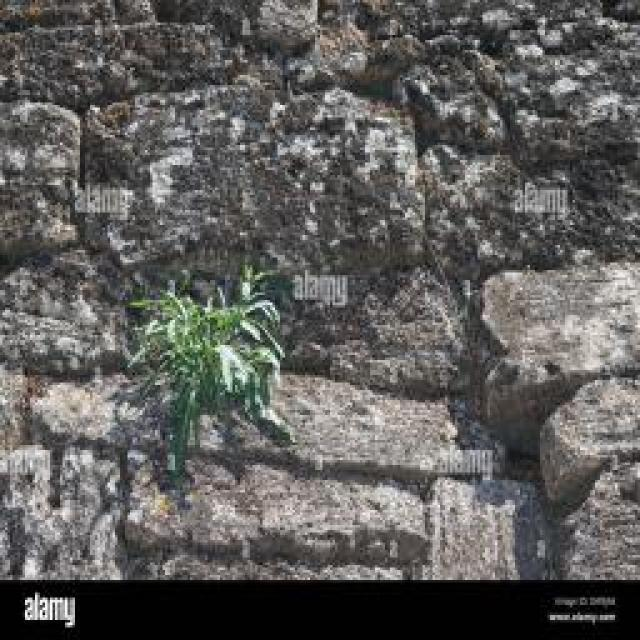Crack: (1, 0, 638, 580)
